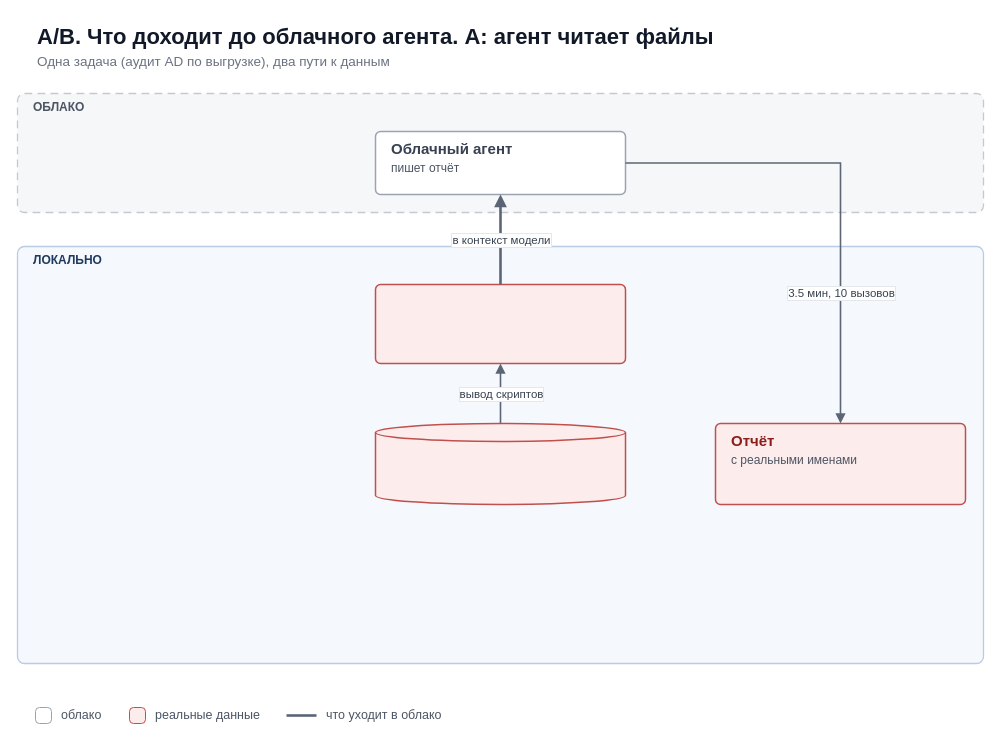
This 1002x742 diagram has some shape labels left out. Here are the shapes that lost their labels. From the top down, the centre of each, then its label:
At point (500, 323): "36 тыс. символов 129 логинов, 94 имени, 19 хостов, 14 IP".
At point (500, 463): "22 CSV-файла python прямо по файлам".
